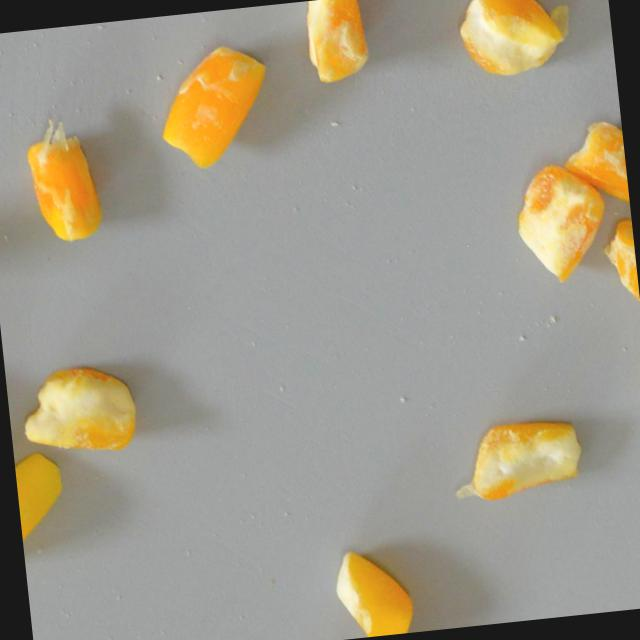dañado: (147, 33, 285, 184), (506, 157, 615, 294), (444, 410, 589, 510), (13, 356, 141, 465), (17, 111, 107, 250), (453, 0, 580, 84), (327, 538, 419, 640), (553, 112, 631, 225), (299, 0, 379, 93), (13, 453, 75, 572), (597, 218, 640, 317)
